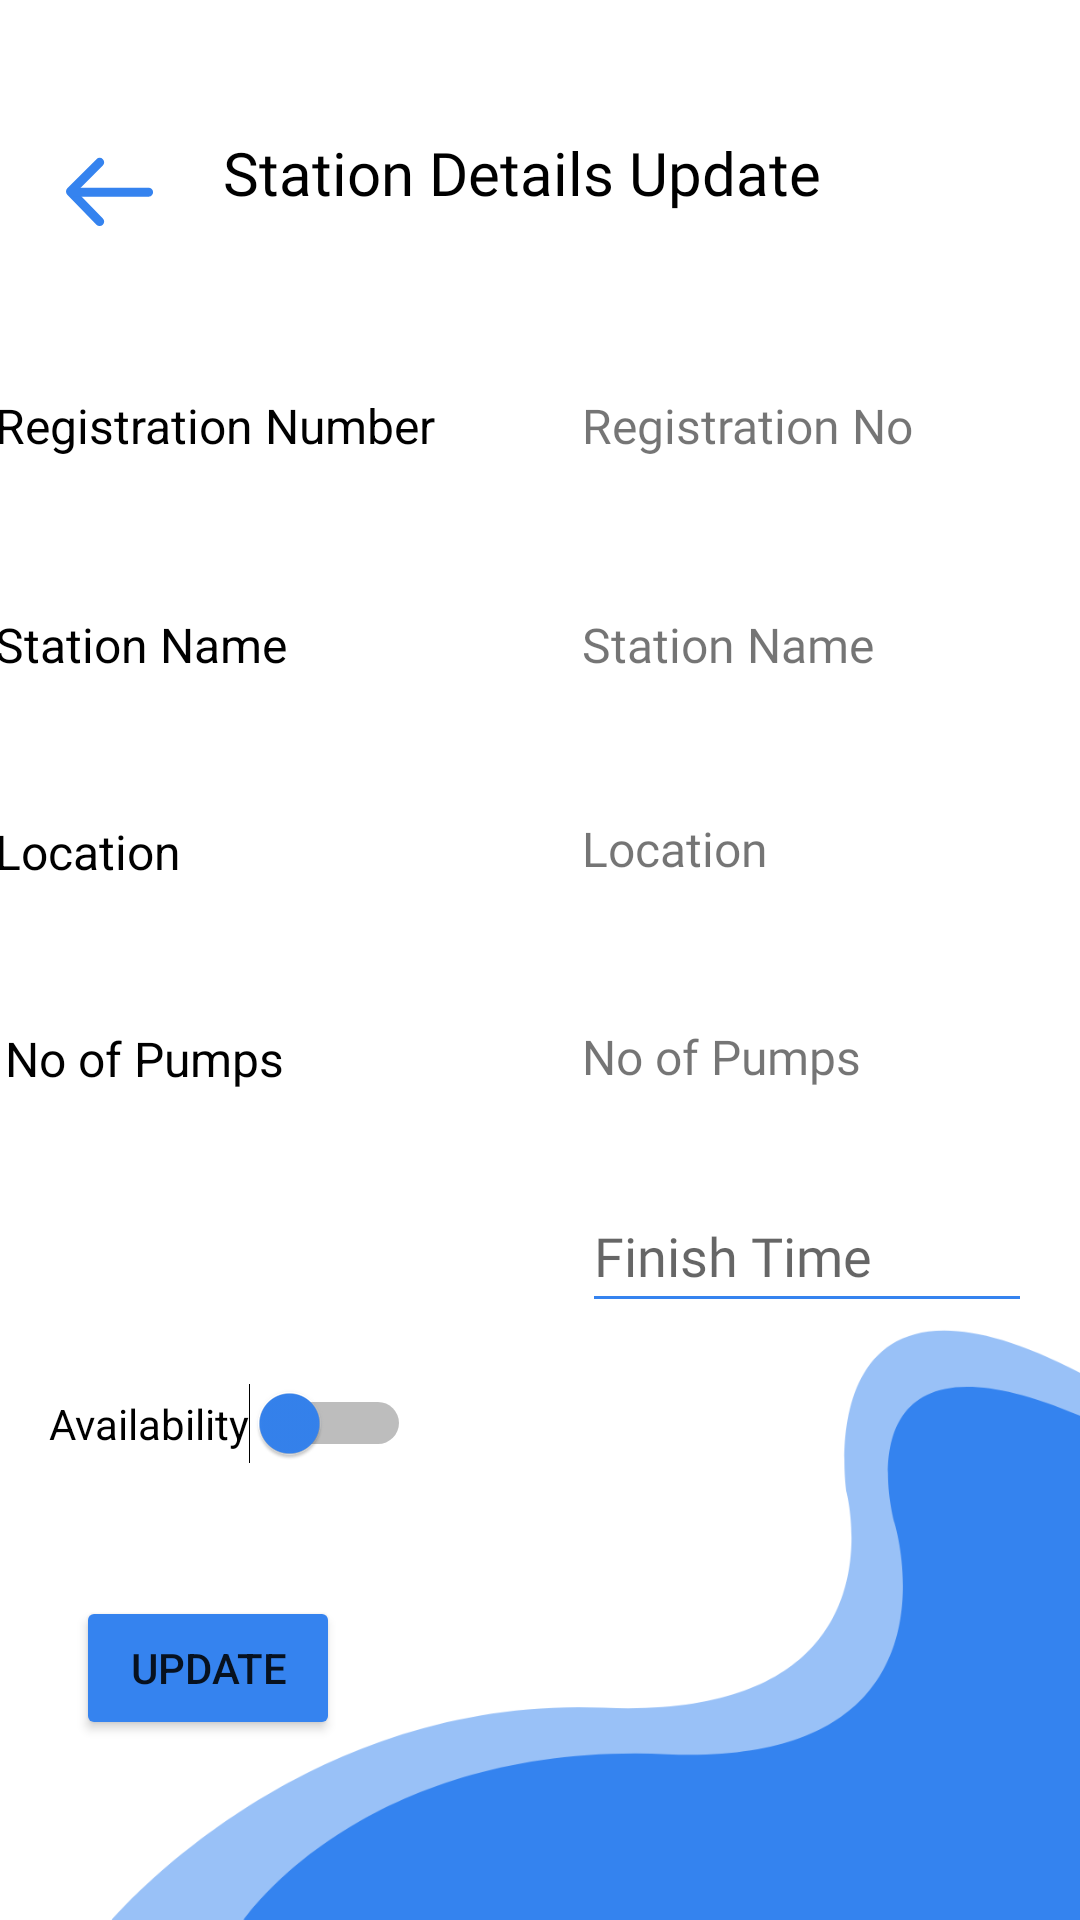

Screen size 1080px×1920px. Icon name, then its center in pixels as (x,y):
back: (109,191)
